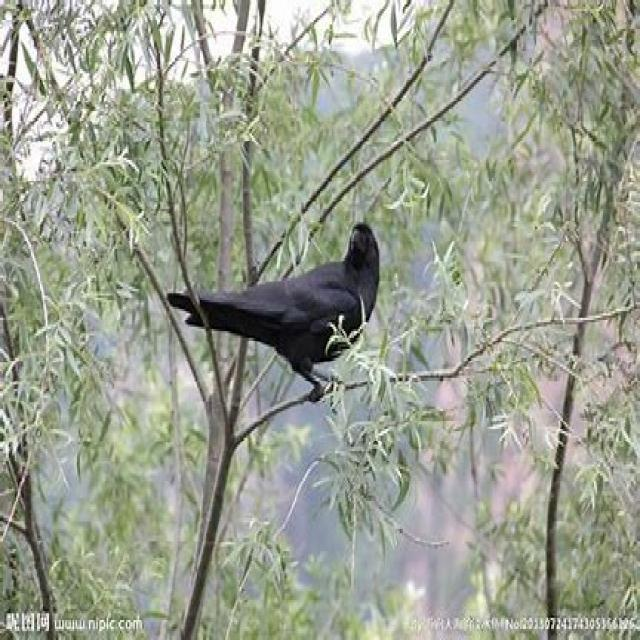crow: (164, 220, 380, 406)
